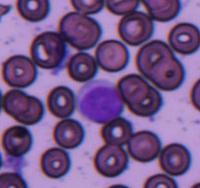L: (77, 78, 124, 122)
